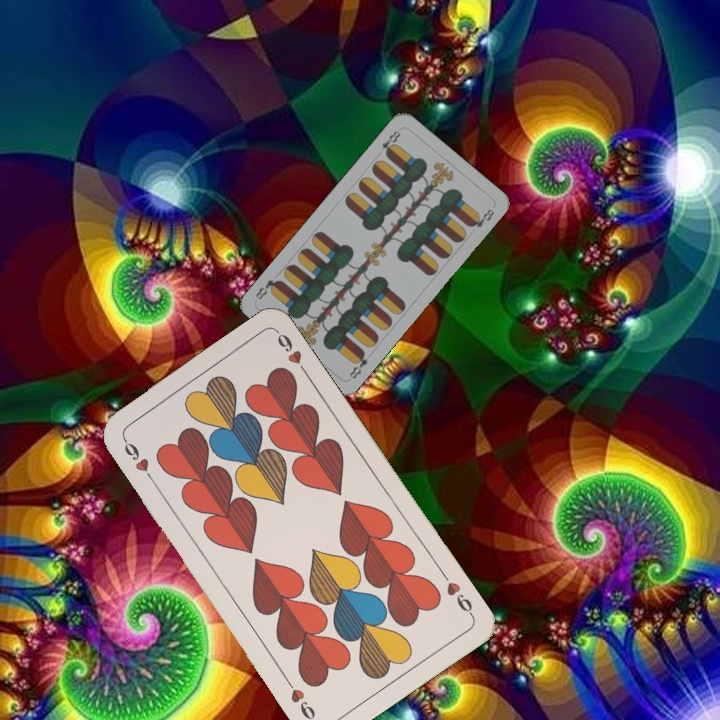E8: (345, 346, 370, 382), (377, 126, 403, 159)
H9: (437, 568, 476, 620), (119, 434, 158, 486)
